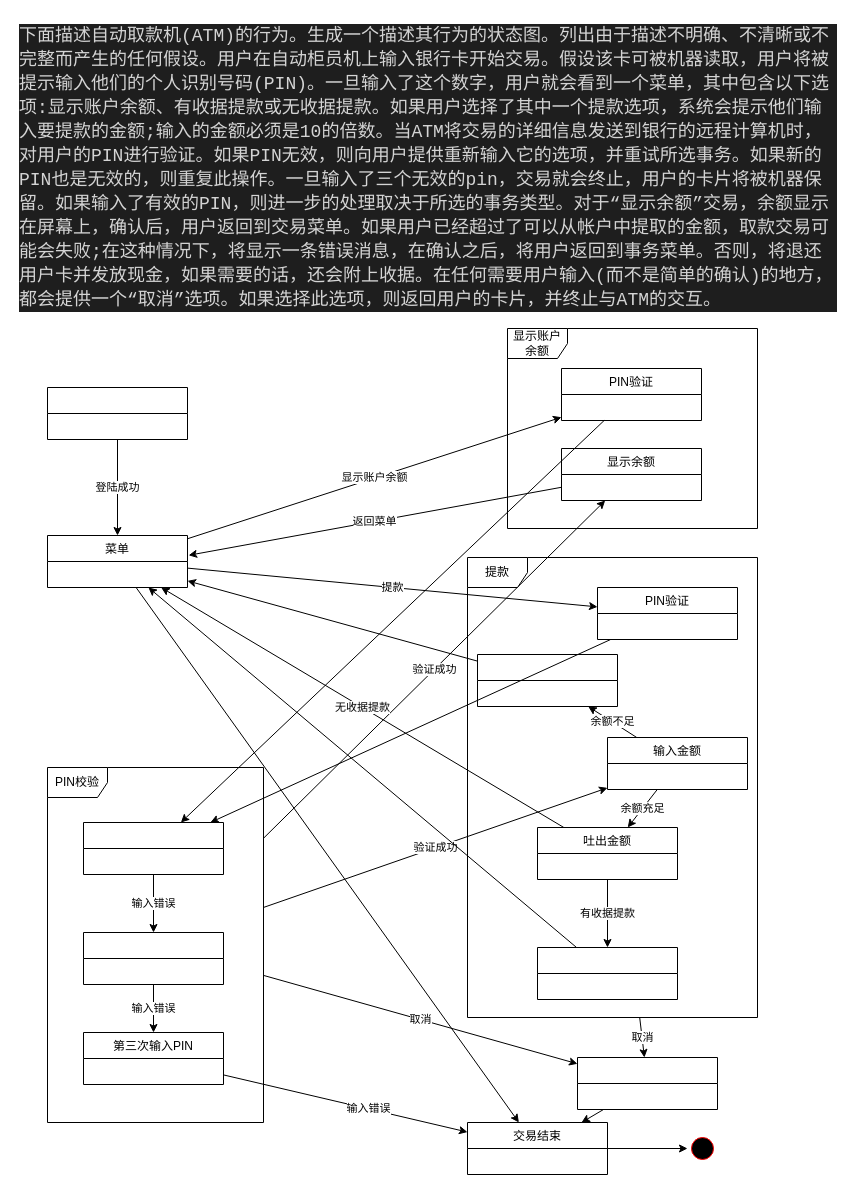
Some shapes in this 854 by 1192 pixel diagram are drawn without their labels. Here are the shapes that lost their labels. From the top down, the centre of each, then its label:
At pixel 117 413: "提示输入PIN".
At pixel 547 680: "提示用户余额不足".
At pixel 153 848: "第一次输入PIN".
At pixel 153 958: "第二次输入PIN".
At pixel 607 973: "打印收据".
At pixel 647 1083: "退还卡片".
